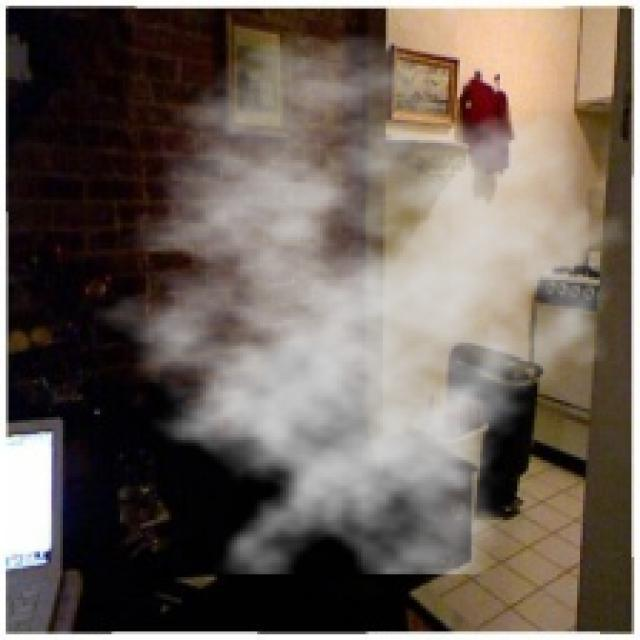Smoke: (71, 32, 632, 574)
